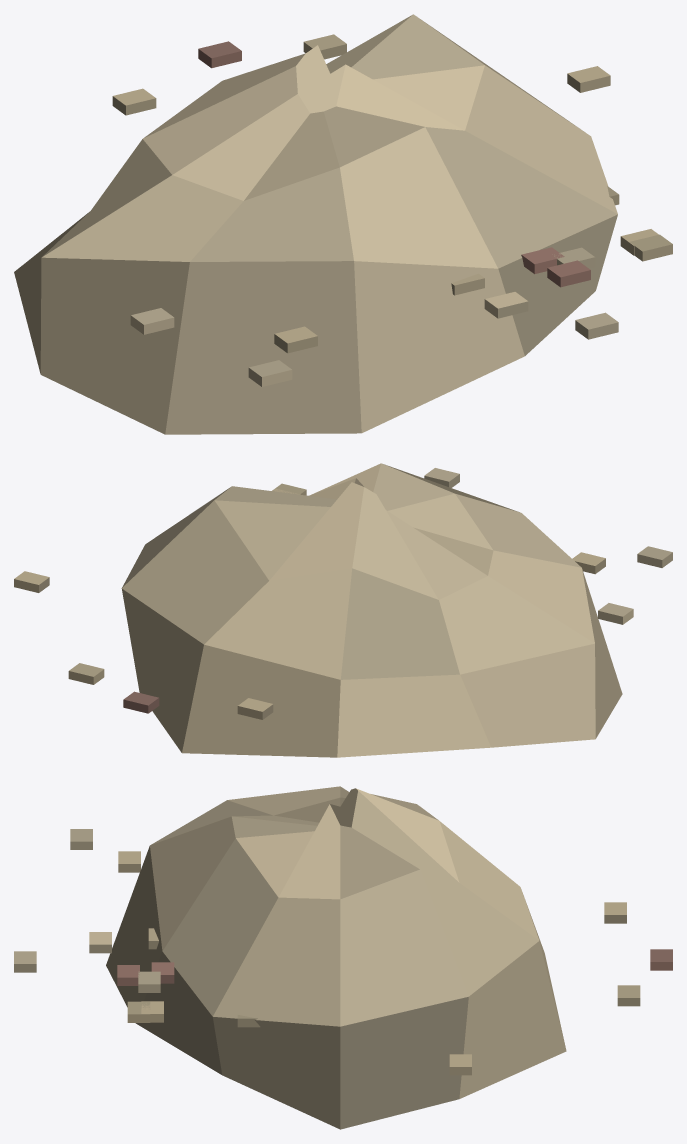
File: walk_prop_shell_heap.glb
The picture shows the model from 3 angles, top to bottom: view 1: azimuth 30°, elevation 25°; view 2: azimuth 150°, elevation 25°; view 3: azimuth 270°, elevation 25°; orthographic projection. The views are drawn at different scales.
Parts seen in each view (by area): view 1: walk_prop_shell_heap; view 2: walk_prop_shell_heap; view 3: walk_prop_shell_heap.
Part boxes in pixels (bbox=[...]): walk_prop_shell_heap: bbox=[14, 14, 672, 434]; walk_prop_shell_heap: bbox=[14, 463, 672, 757]; walk_prop_shell_heap: bbox=[14, 786, 672, 1129].
Size of what is drawn, in the model's own units: 3.33 by 1.34 by 3.51.
1 material, 1 textured.
